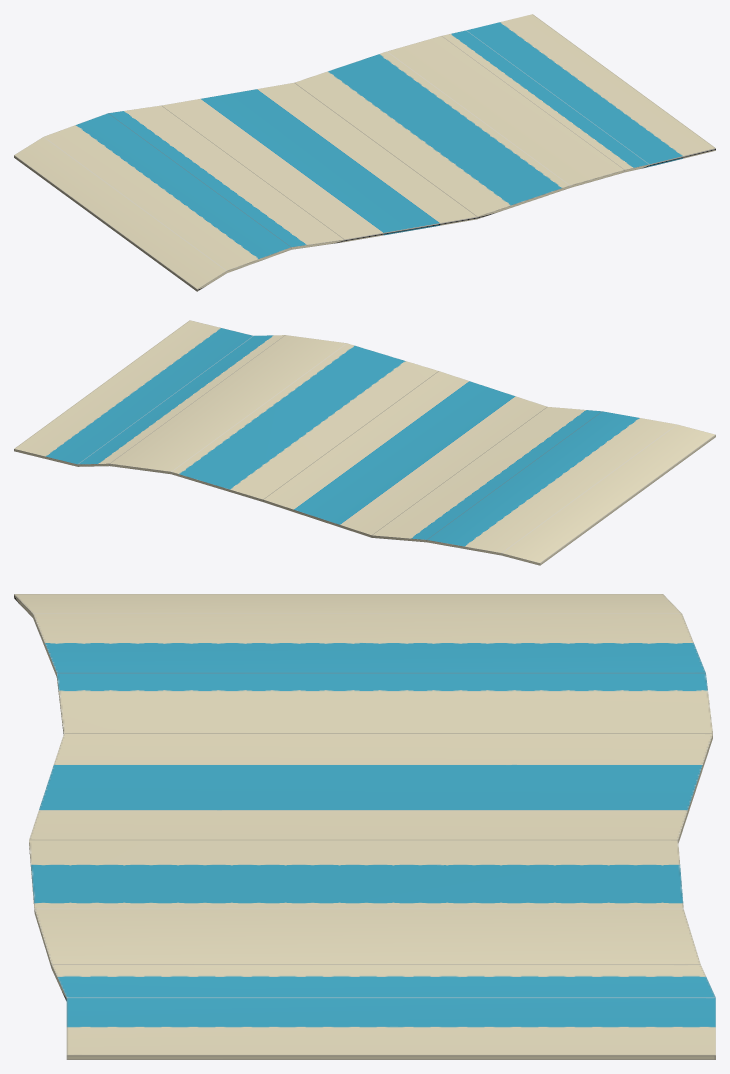
Rendered from towel1.fbx.
3 views of the same model, one above another, from view 1: azimuth 30°, elevation 25°; view 2: azimuth 150°, elevation 25°; view 3: azimuth 270°, elevation 25° (orthographic). The views are drawn at different scales.
Visible parts, largest first — view 1: pCube7; view 2: pCube7; view 3: pCube7.
Boxes of the visible parts, <box> form: pCube7: <box>14,14,715,291</box>; pCube7: <box>14,320,715,565</box>; pCube7: <box>14,594,715,1059</box>.
Size of the model in its own units: 4.31 by 0.0755 by 2.77.
Materials: 1 (1 with a texture image).
